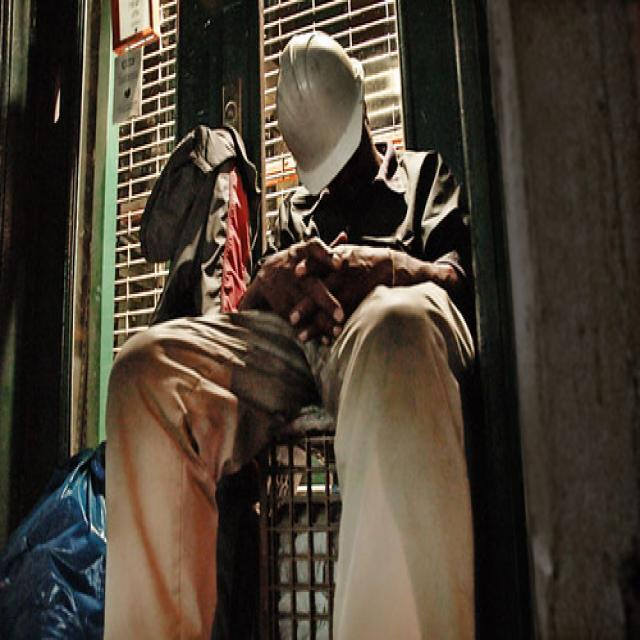Safety-Helmet: (270, 29, 367, 200)
